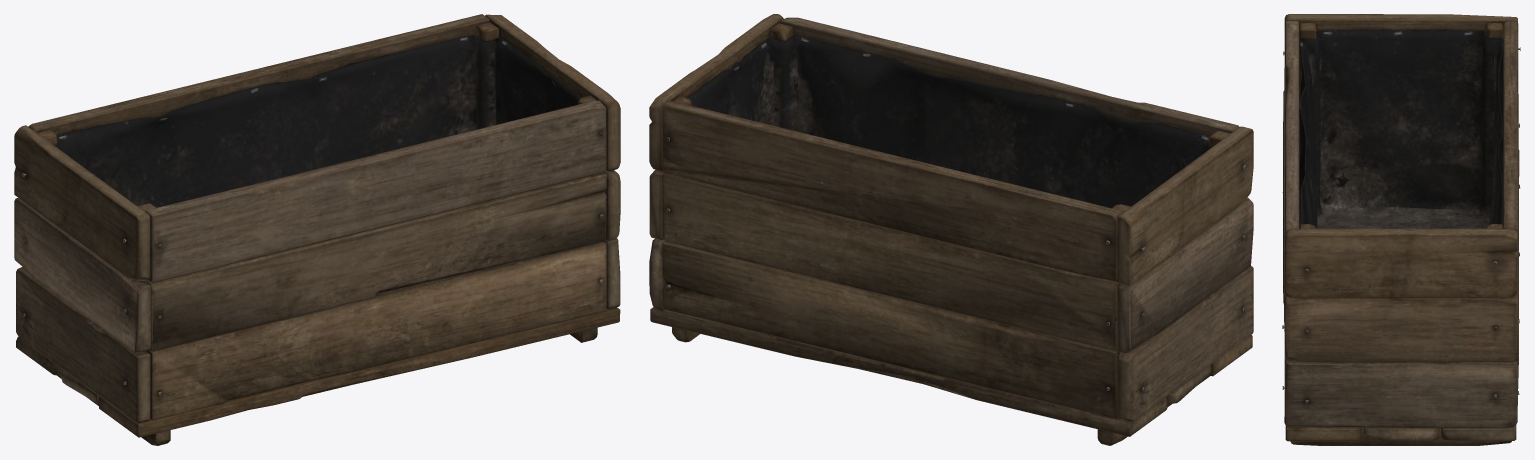
3 views of the same model, side by side, from view 1: azimuth 30°, elevation 25°; view 2: azimuth 150°, elevation 25°; view 3: azimuth 270°, elevation 25° (orthographic). The views are drawn at different scales.
Visible parts, largest first — view 1: planter_box_01; view 2: planter_box_01; view 3: planter_box_01.
Part boxes in pixels (x1,y1,x2,y2): planter_box_01: [14, 14, 620, 445]; planter_box_01: [649, 14, 1253, 445]; planter_box_01: [1282, 14, 1520, 445].
Size of the model in its own units: 0.9126 by 0.4253 by 0.4137.
Materials: 1 (1 with a texture image).
